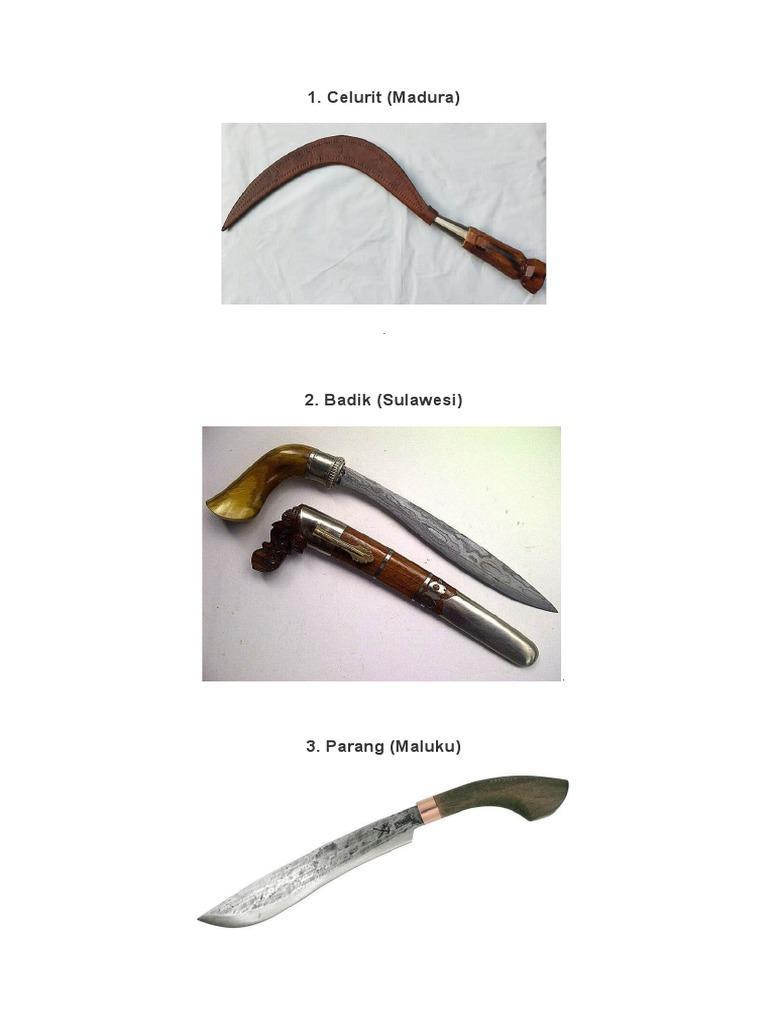espada: (206, 444, 557, 611), (199, 775, 568, 927)
foice: (223, 135, 545, 294)
